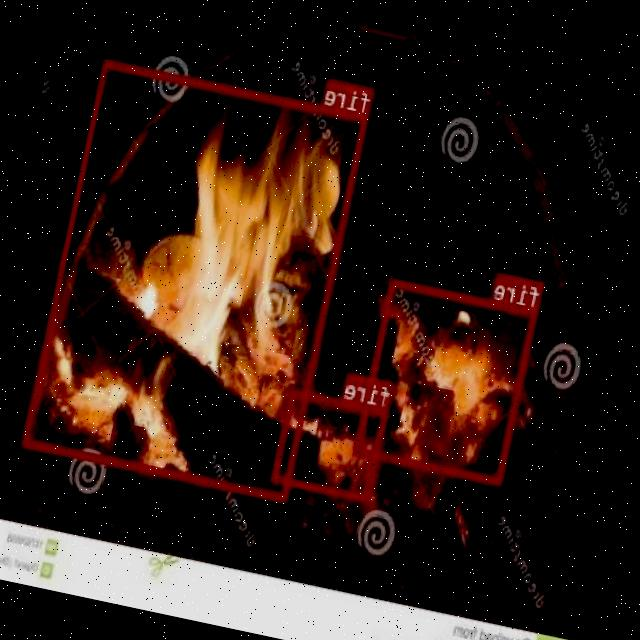fire: (23, 58, 370, 502), (356, 278, 538, 484), (272, 387, 389, 500)
